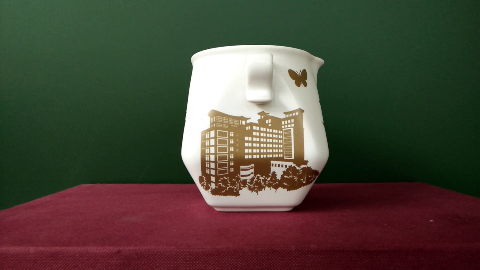butterfly: (279, 55, 318, 92)
lenwen: (205, 118, 300, 182)
